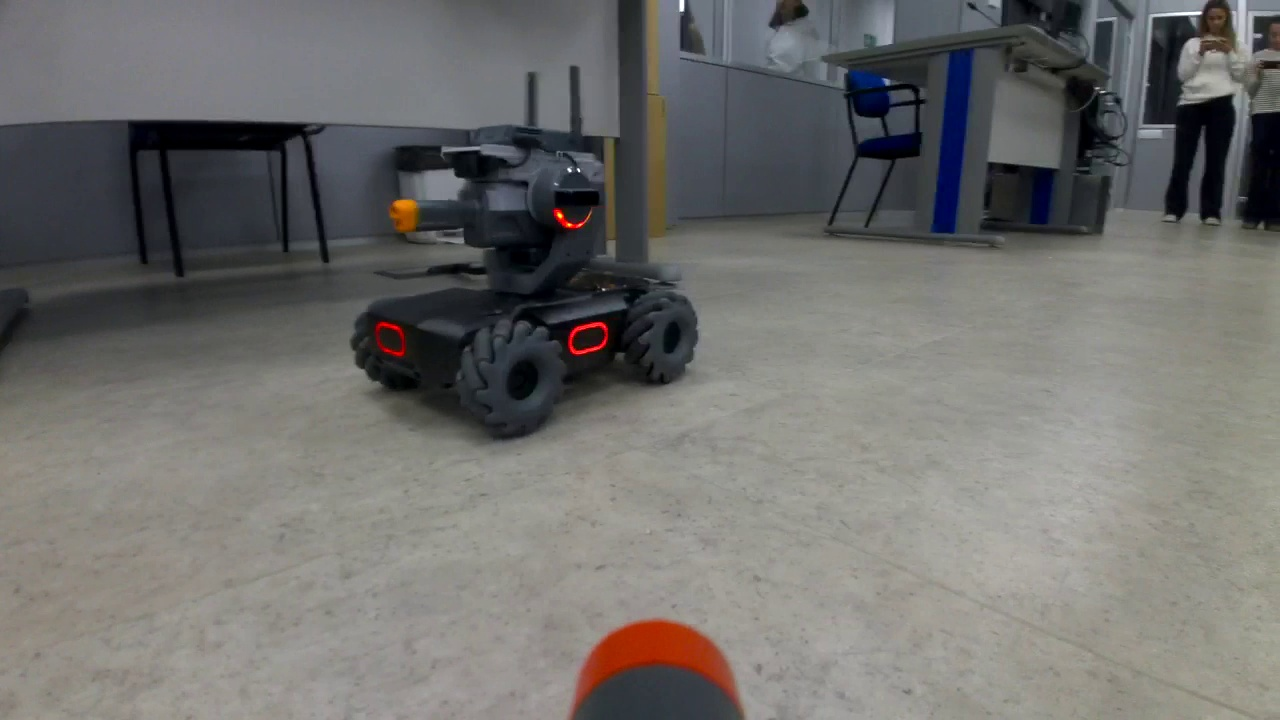robot: (351, 126, 699, 445)
